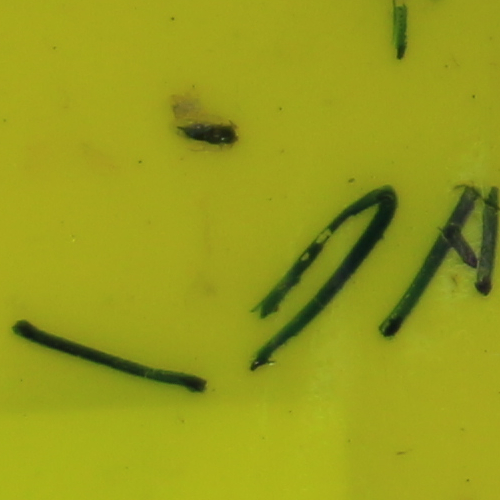wasp: (176, 119, 242, 148)
